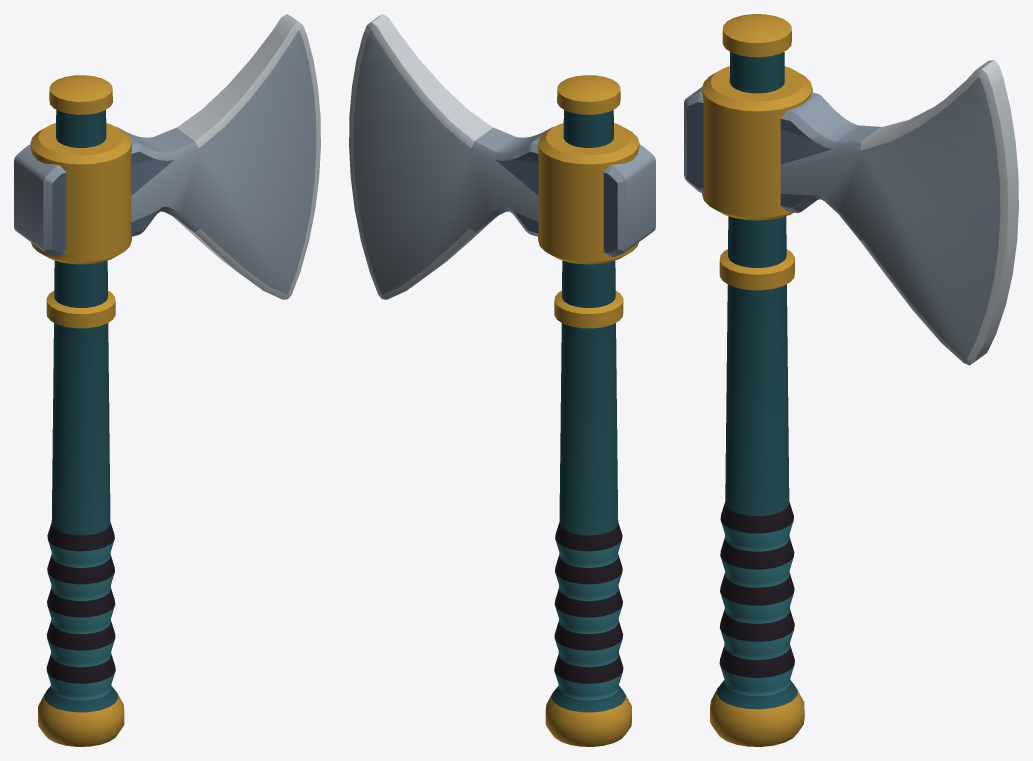
File: Axe_22.glb
3 views of the same model, side by side, from view 1: azimuth 30°, elevation 25°; view 2: azimuth 150°, elevation 25°; view 3: azimuth 330°, elevation 25° (orthographic). The views are drawn at different scales.
Visible parts, largest first — view 1: Axe_22; view 2: Axe_22; view 3: Axe_22.
Part boxes in pixels (x1,y1,x2,y2): Axe_22: [14, 14, 320, 746]; Axe_22: [349, 14, 655, 746]; Axe_22: [684, 14, 1018, 746].
Bounding box in the file's own units: 2.09 × 4.61 × 0.64.
